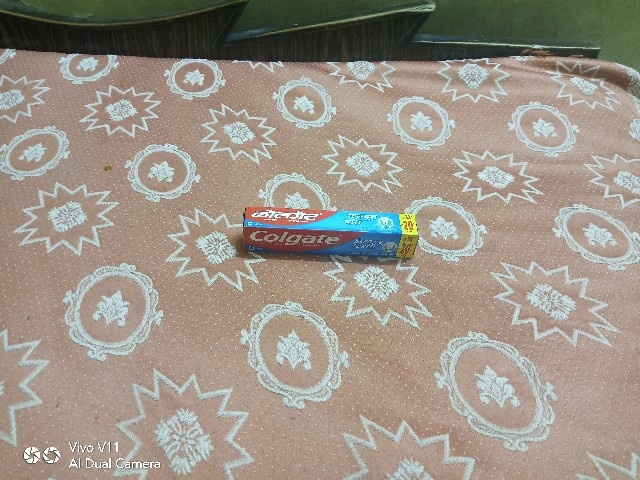colgatetoothpaste small: (231, 197, 430, 270)
